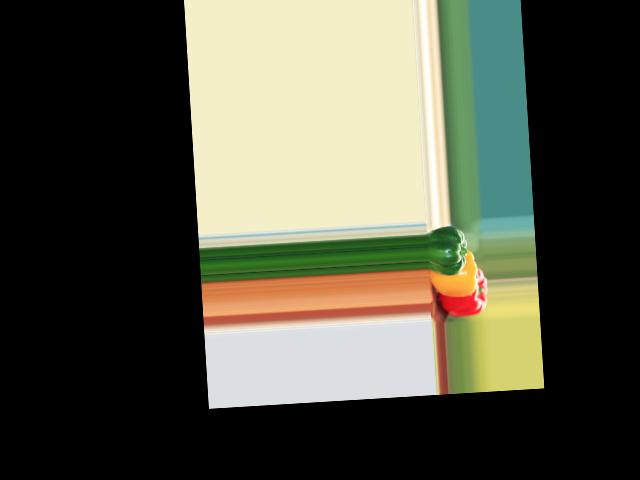bell_pepper: (430, 267, 488, 317)
